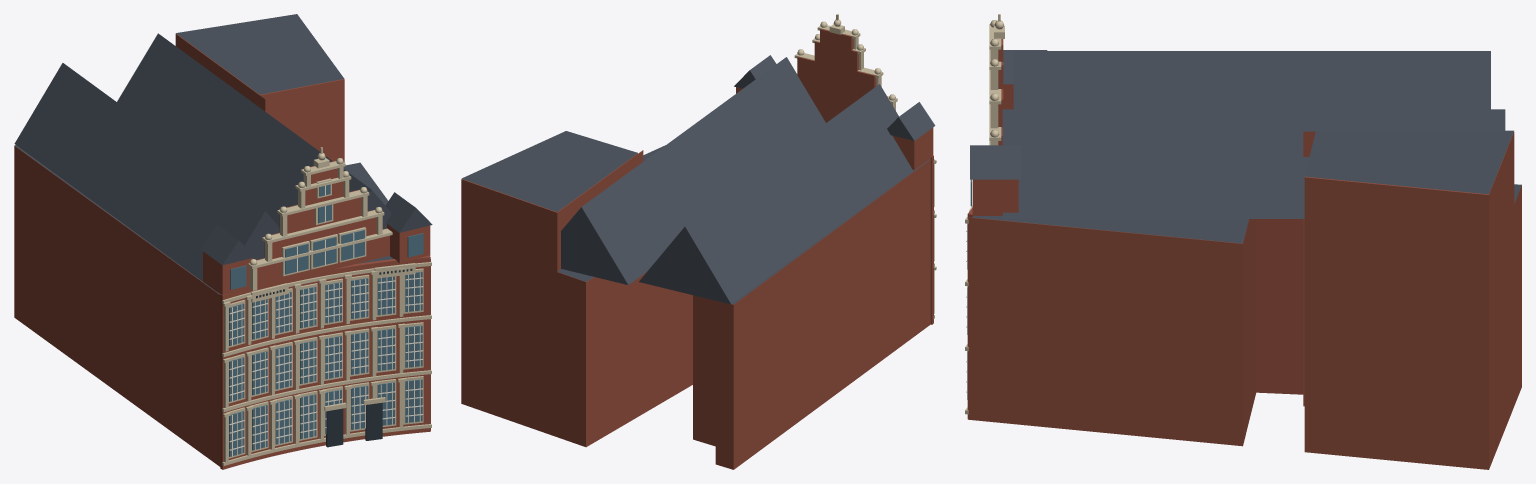
File: huis-bartolotti.glb
3 views of the same model, side by side, from view 1: azimuth 30°, elevation 25°; view 2: azimuth 150°, elevation 25°; view 3: azimuth 270°, elevation 25° (orthographic). The views are drawn at different scales.
Parts seen in each view (by area): view 1: huis-bartolotti; view 2: huis-bartolotti; view 3: huis-bartolotti.
Boxes of the visible parts, <box> form: huis-bartolotti: <box>14,14,432,469</box>; huis-bartolotti: <box>461,14,936,469</box>; huis-bartolotti: <box>965,14,1521,469</box>.
Bounding box in the file's own units: 22.66 × 22.67 × 32.69.
